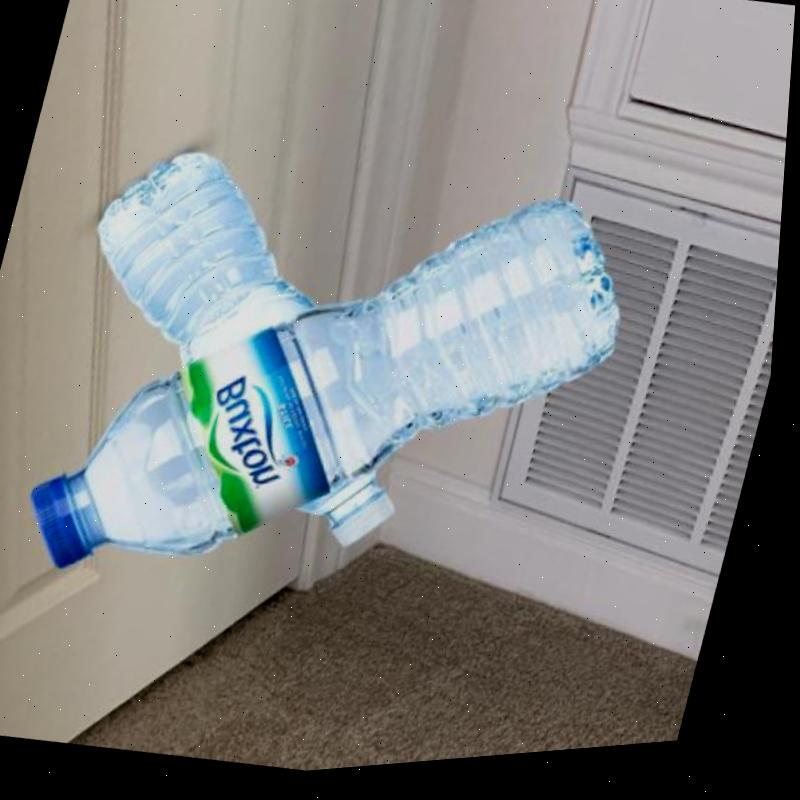botella: (15, 112, 660, 669), (27, 125, 486, 580)
